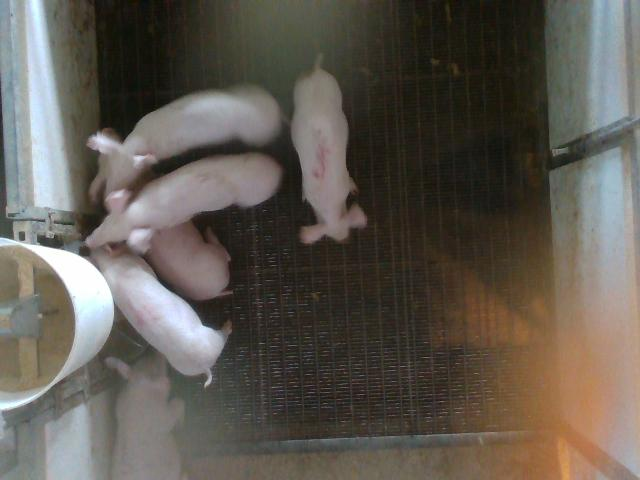pig-4: (91, 244, 231, 386)
pig-5: (291, 60, 368, 244)
